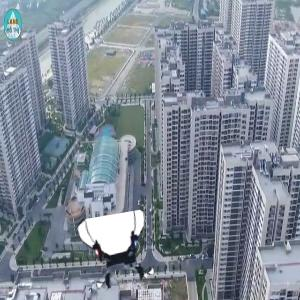drone: (81, 215, 158, 292)
